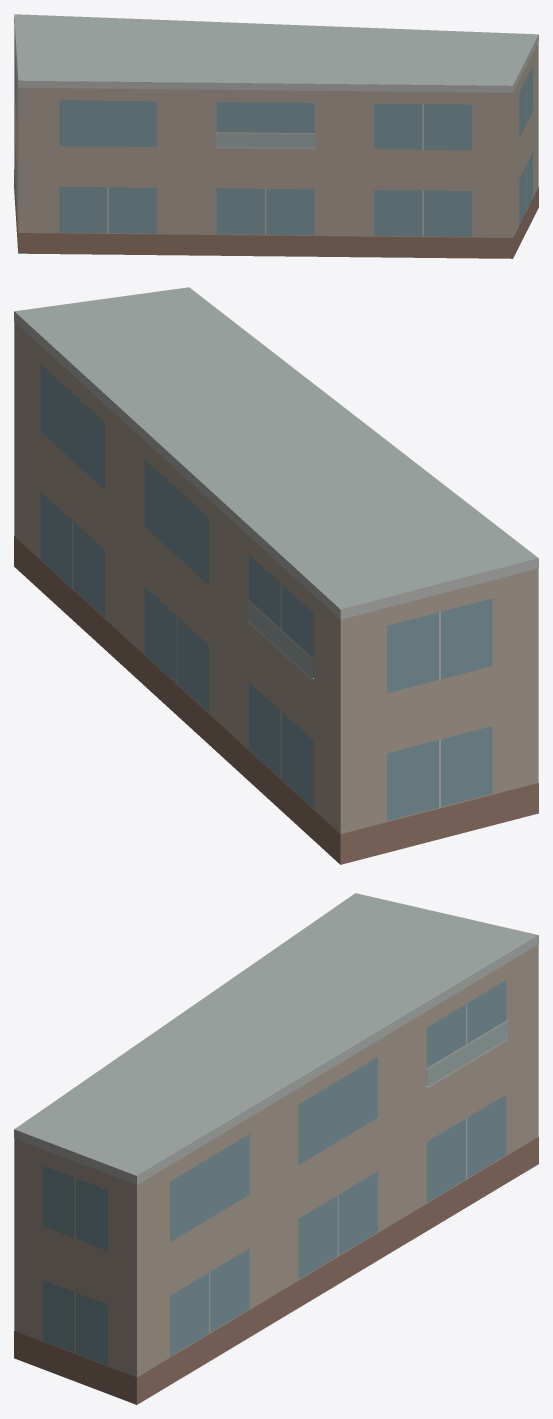
Rendered from survey-upis-32928947.glb.
3 views of the same model, one above another, from view 1: azimuth 30°, elevation 25°; view 2: azimuth 150°, elevation 25°; view 3: azimuth 270°, elevation 25° (orthographic). The views are drawn at different scales.
Visible parts, largest first — view 1: survey-upis-32928947.tmp; view 2: survey-upis-32928947.tmp; view 3: survey-upis-32928947.tmp.
Part boxes in pixels (x1=…): survey-upis-32928947.tmp: x1=14, y1=14, x2=538, y2=258; survey-upis-32928947.tmp: x1=14, y1=287, x2=538, y2=864; survey-upis-32928947.tmp: x1=14, y1=893, x2=538, y2=1404.
Bounding box in the file's own units: 16.18 × 6.1 × 12.68.
